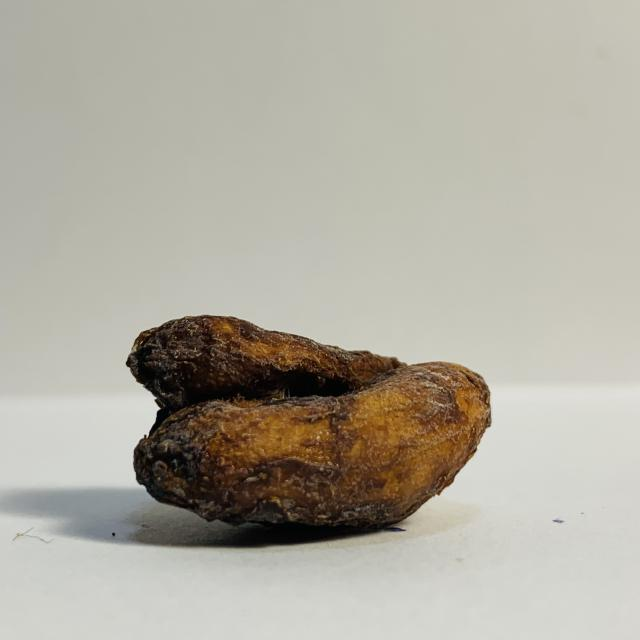Agglomerated_cocoabeans: (29, 282, 548, 584)
